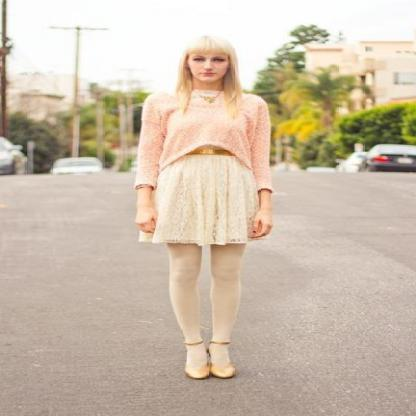shirt: (127, 90, 275, 188)
shoe: (185, 332, 233, 377)
skirt: (152, 154, 261, 252)
